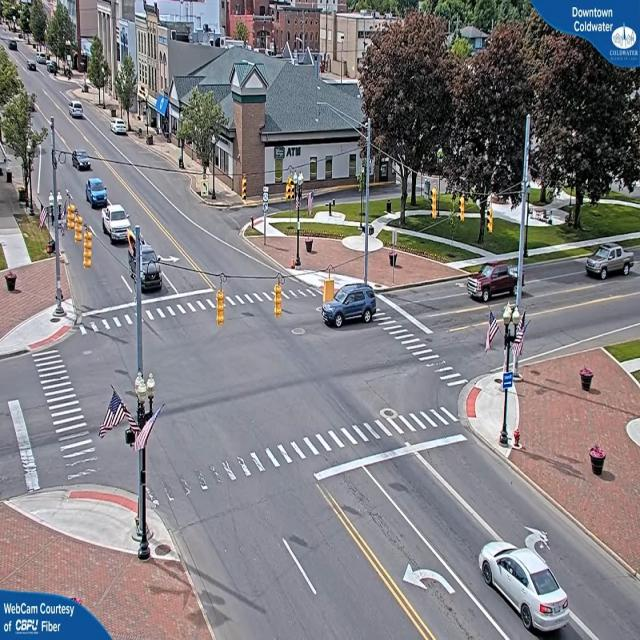car: (480, 544, 573, 637), (323, 281, 377, 328), (468, 266, 520, 304), (584, 243, 635, 279), (138, 242, 164, 294), (104, 206, 133, 244), (86, 178, 110, 209), (73, 152, 93, 172), (68, 103, 85, 121), (112, 121, 130, 138)
